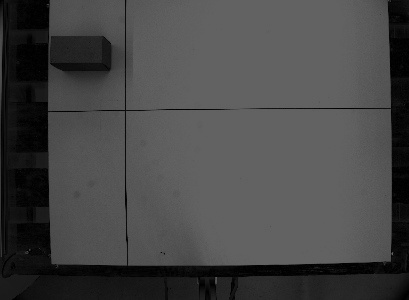b2: (49, 33, 113, 74)
